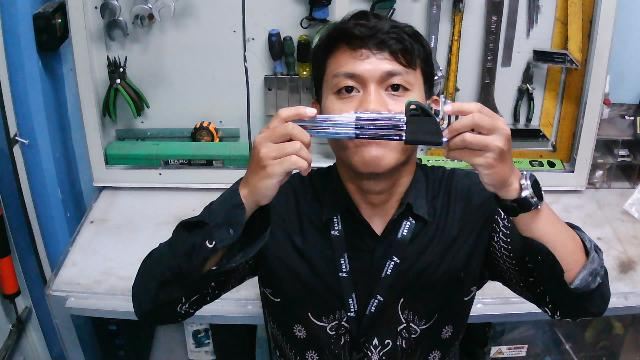kunci_l: (278, 95, 463, 149)
